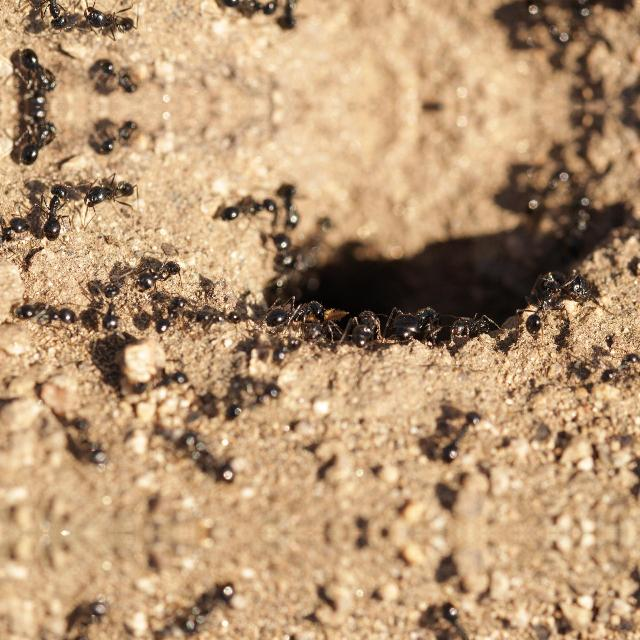Messor: (172, 425, 252, 499), (172, 566, 252, 640), (426, 401, 484, 482), (218, 371, 292, 427), (425, 583, 484, 640), (381, 297, 435, 357), (254, 294, 332, 334), (62, 412, 106, 472), (522, 282, 566, 341), (530, 271, 602, 307), (270, 322, 332, 363), (84, 173, 146, 213), (97, 106, 153, 150), (595, 342, 639, 398), (97, 62, 153, 106), (83, 0, 146, 39), (40, 170, 68, 256), (208, 193, 276, 227), (434, 310, 498, 346), (132, 252, 178, 298), (340, 310, 388, 354), (62, 593, 106, 640), (148, 290, 190, 338), (20, 118, 60, 168), (20, 44, 60, 94), (12, 282, 50, 334), (0, 199, 36, 251), (128, 366, 190, 396), (45, 297, 97, 331), (268, 230, 306, 274), (274, 179, 304, 233), (188, 299, 240, 329), (208, 0, 275, 19), (91, 302, 125, 338), (39, 0, 68, 42), (95, 274, 129, 306), (274, 0, 303, 33), (0, 0, 36, 13)
